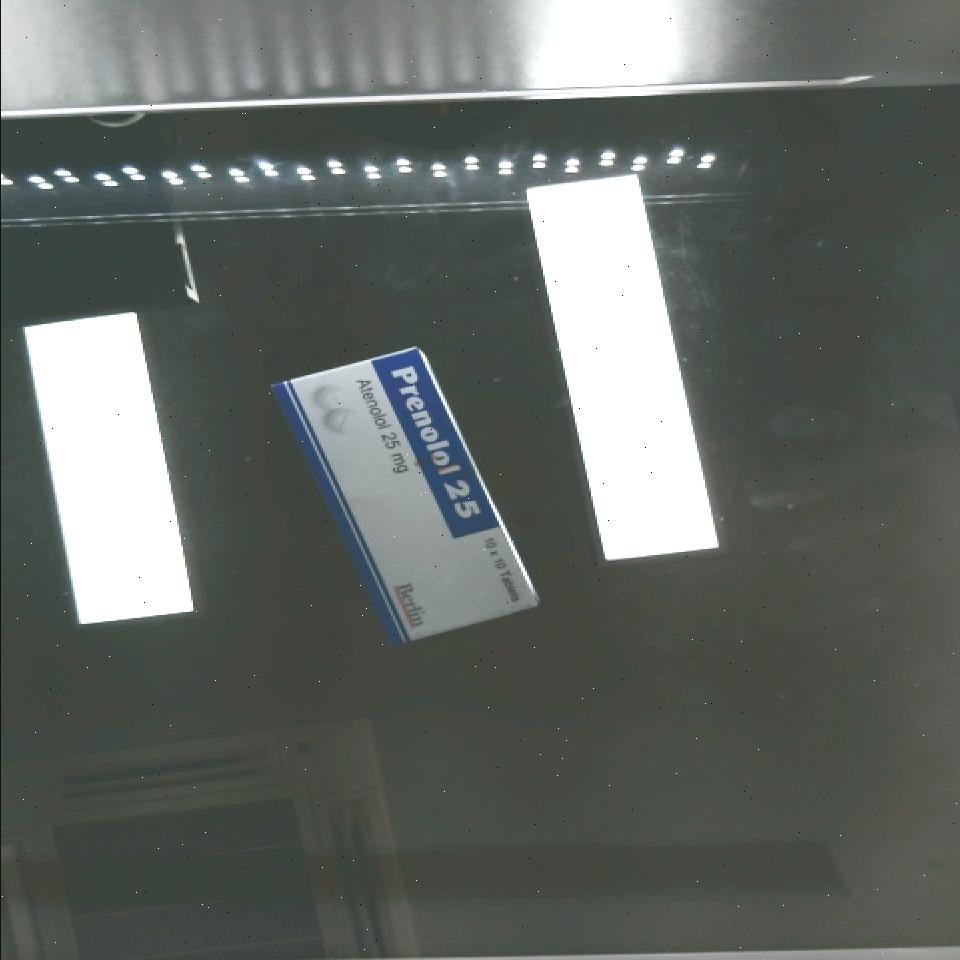medicine_box: (268, 319, 536, 665)
medicine_label_obb: (372, 344, 499, 544)
